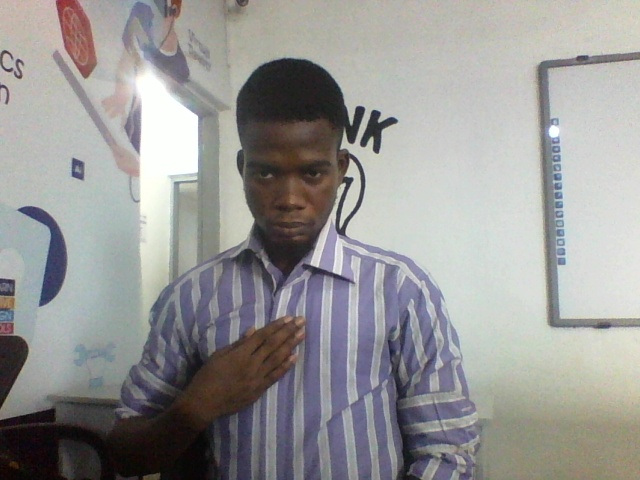please: (158, 318, 318, 450)
